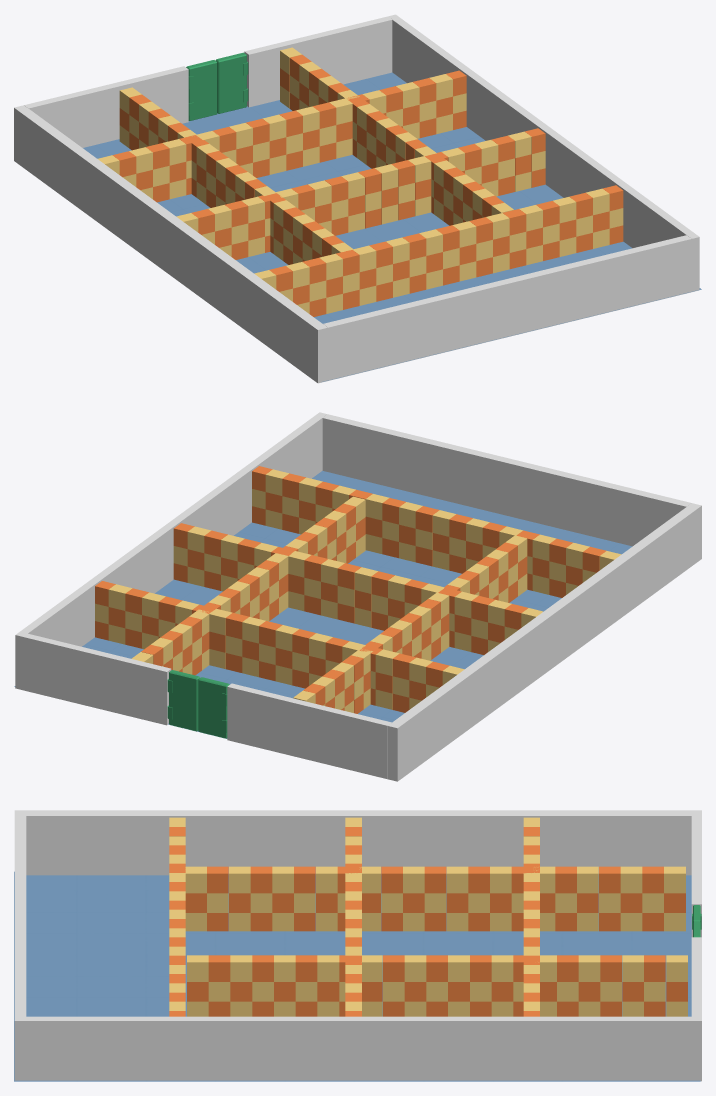
Rendered from maps_23.fbx.
The picture shows the model from 3 angles, top to bottom: view 1: azimuth 30°, elevation 25°; view 2: azimuth 150°, elevation 25°; view 3: azimuth 270°, elevation 25°; orthographic projection. The views are drawn at different scales.
Visible parts, largest first — view 1: wall_01_05_geo, wall_01_07_geo, wall_01_08_geo, wall_01_06_geo, wall_01_10_geo, wall_01_09_geo, polySurface161, polySurface165; view 2: wall_01_07_geo, wall_01_05_geo, wall_01_08_geo, wall_01_06_geo, wall_01_09_geo, wall_01_10_geo, polySurface161, polySurface165; view 3: wall_01_06_geo, wall_01_07_geo, wall_01_08_geo, wall_01_05_geo, wall_02_01_05_geo (×2), wall_02_01_26_geo (×2), wall_02_01_26_geo1 (×2), wall_02_01_05_geo1 (×2), wall_02_01_17_geo2 (×2), wall_02_01_26_geo2 (×2), wall_02_01_27_geo2 (×2), wall_02_01_20_geo (×2) (+40 smaller).
Boxes of the visible parts, box(x1,y1,x2,y2) form: wall_01_05_geo: box(323, 235, 691, 380); wall_01_07_geo: box(14, 105, 327, 383); wall_01_08_geo: box(83, 72, 701, 382); wall_01_06_geo: box(388, 14, 699, 291); wall_01_10_geo: box(244, 16, 392, 107); wall_01_09_geo: box(24, 66, 188, 147); polySurface161: box(215, 52, 248, 113); polySurface165: box(186, 60, 217, 120); wall_01_07_geo: box(387, 503, 701, 781); wall_01_05_geo: box(322, 414, 691, 546); wall_01_08_geo: box(14, 471, 632, 738); wall_01_06_geo: box(15, 412, 327, 690); wall_01_09_geo: box(227, 683, 391, 779); wall_01_10_geo: box(23, 633, 171, 725); polySurface161: box(167, 670, 199, 731); polySurface165: box(198, 677, 229, 738); wall_01_06_geo: box(14, 1016, 701, 1081); wall_01_07_geo: box(14, 810, 701, 875); wall_01_08_geo: box(14, 871, 700, 1081); wall_01_05_geo: box(14, 816, 26, 1016); wall_02_01_05_geo (×2): box(490, 866, 513, 981); wall_02_01_26_geo (×2): box(403, 866, 426, 981); wall_02_01_26_geo1 (×2): box(577, 866, 600, 981); wall_02_01_05_geo1 (×2): box(316, 866, 339, 981); wall_02_01_17_geo2 (×2): box(294, 866, 317, 981); wall_02_01_26_geo2 (×2): box(229, 866, 252, 981); wall_02_01_27_geo2 (×2): box(207, 866, 230, 981); wall_02_01_20_geo (×2): box(446, 866, 469, 981).
Size of the model in its own units: 66.8 by 8.96 by 91.75.
3 materials, 3 textured.
